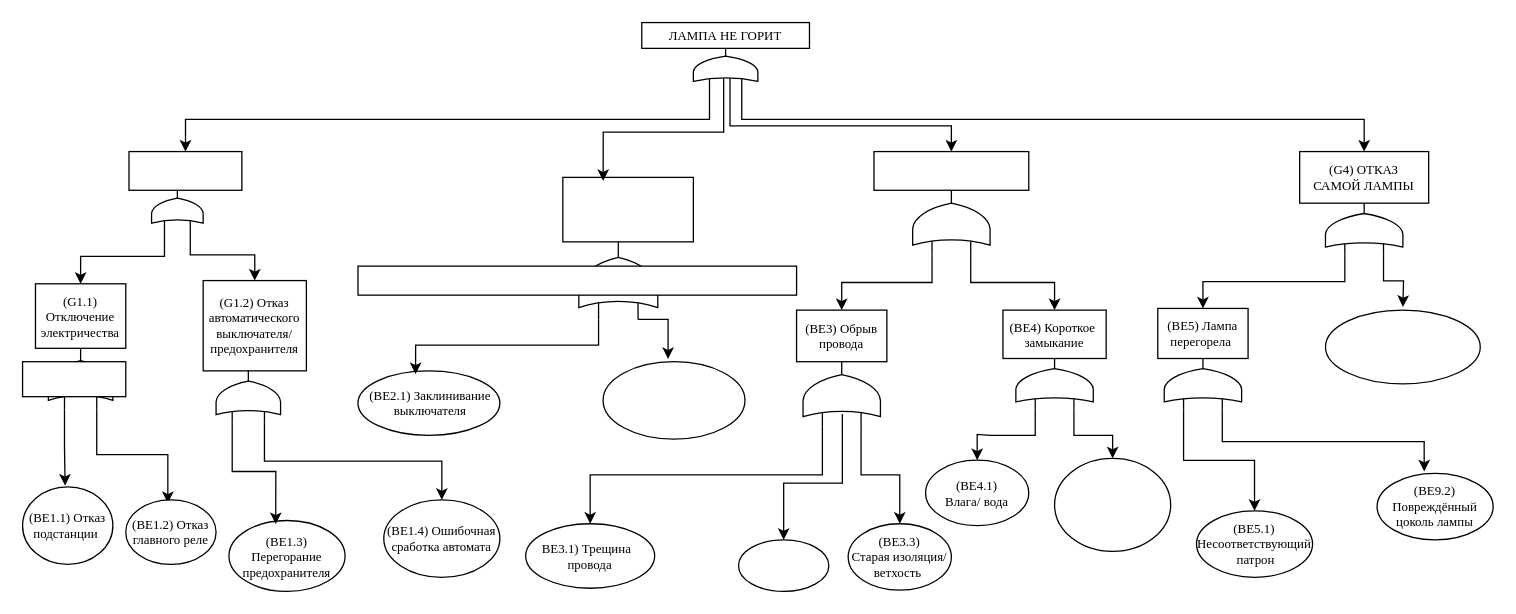
Image size: 1516x614. Some labels were removed from this diagram. The centre of each missing label's shape, as x and y in pixels:
"( BE2 ) Перегорание / выход из строя выключателя ( например , контакт сгорел )" belongs at pixel 577 280.
"( G1 ) ОТКАЗ ИСТОЧНИКА" belongs at pixel 185 170.
"( G2 ) ОТКАЗ ПРЕОБРАЗОВАТЕЛЯ" belongs at pixel 627 209.
"( G3 ) ОТКАЗ ПРОВОДКИ" belongs at pixel 951 170.
"(BE1) Местное отключение" belongs at pixel 73 378.
"(BE2.2) Сбой запасного источника" belongs at pixel 673 399.
"(BE3.2) Коррозия" belongs at pixel 783 565.
"(BE4.2) Повреждение вода проводов грызунами" belongs at pixel 1112 504.
"(BE6) Частичный отказ (напр., повреждение нити накала" belongs at pixel 1402 346.
